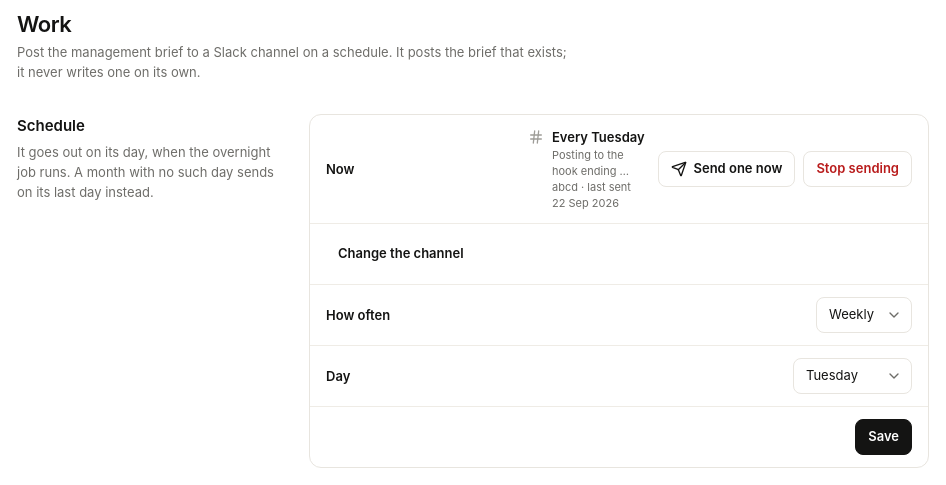
Test case: BriefDeliveryPage › says when there is no brief to send yet
Expected: the text "Every Tuesday" is shown, x1=552 y1=127 x2=646 y2=147
Click the button "Send one now": (727, 169) x1=658 y1=151 x2=795 y2=187
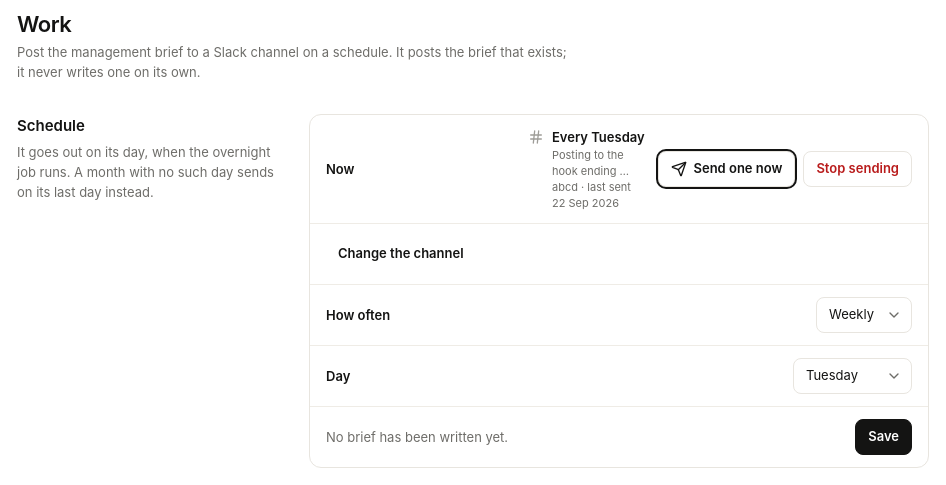
Now the message shows "No brief has been written yet", box x1=326 y1=429 x2=508 y2=445
